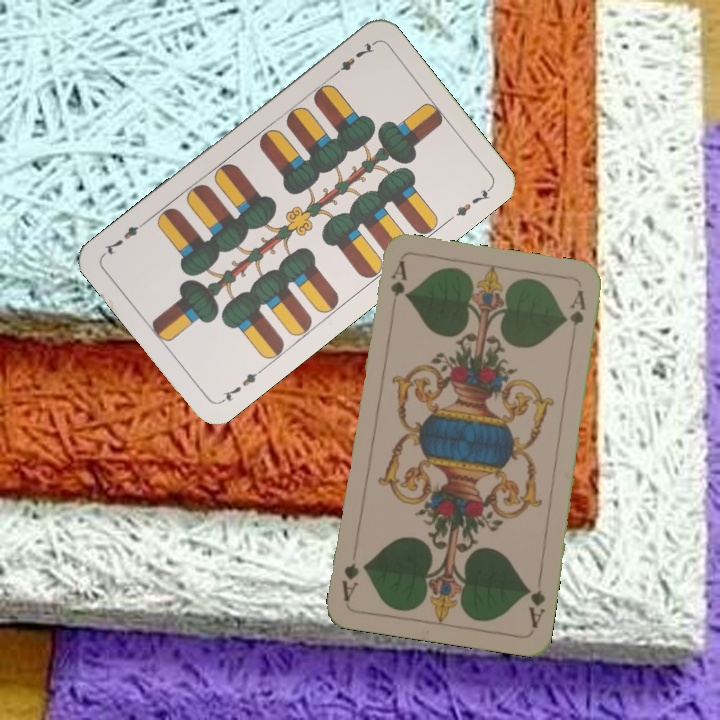E7: (328, 38, 378, 80), (216, 364, 266, 406)
GA: (522, 572, 548, 630), (386, 257, 409, 299)
